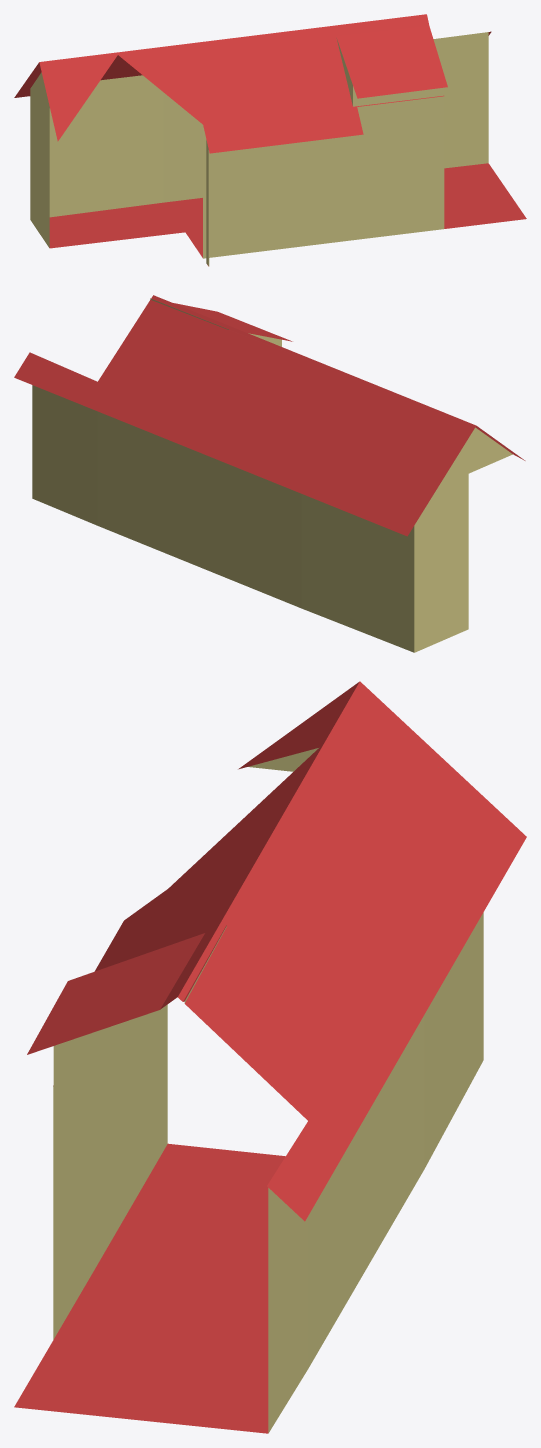
The picture shows the model from 3 angles, top to bottom: view 1: azimuth 30°, elevation 25°; view 2: azimuth 150°, elevation 25°; view 3: azimuth 270°, elevation 25°; orthographic projection. The views are drawn at different scales.
Bounding box in the file's own units: 31.95 × 16.71 × 12.83.
